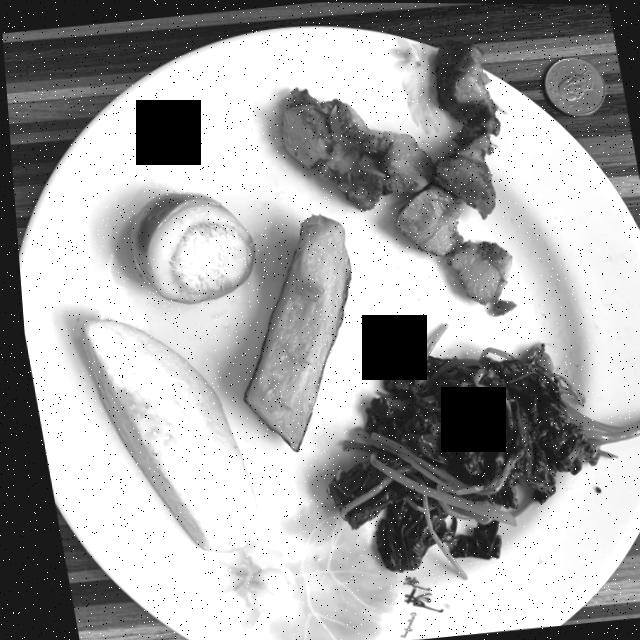coin: (543, 55, 604, 113)
grilled pork: (279, 38, 510, 313)
guava -sliced-: (76, 318, 250, 552)
pumpkin: (237, 213, 346, 450)
soy egg: (127, 191, 251, 303)
sweet potato leaves: (319, 321, 640, 576)
